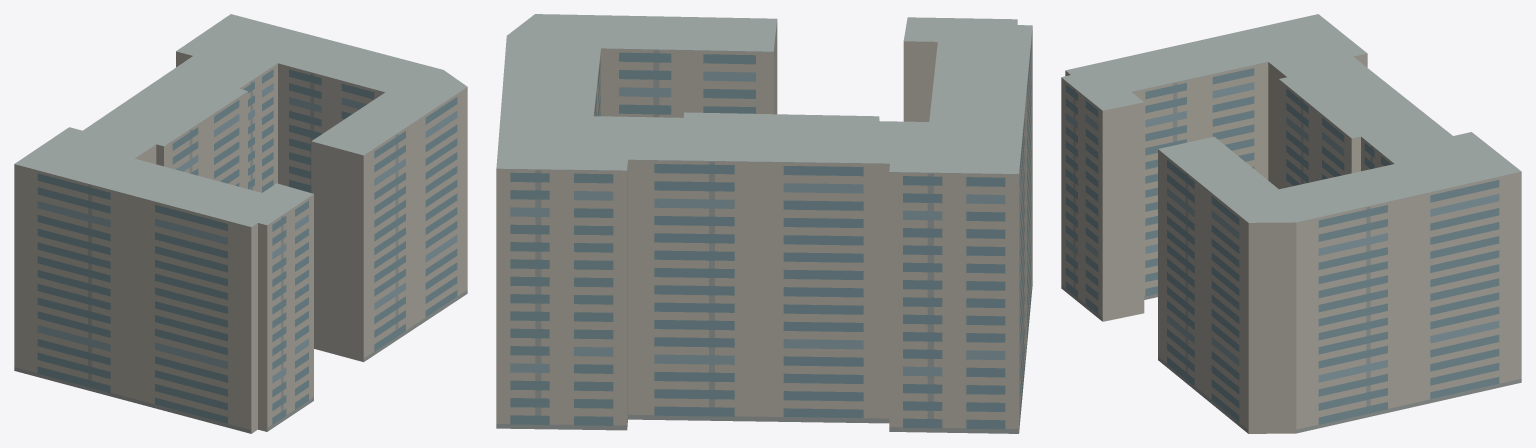
File: residential-4eac9d20-9733-48c5-90f8-e5d0ca094ec5.glb
3 renders of one model, left to right at view 1: azimuth 30°, elevation 25°; view 2: azimuth 150°, elevation 25°; view 3: azimuth 270°, elevation 25°, orthographic. The views are drawn at different scales.
Visible parts, largest first — view 1: residential-4eac9d20-9733-48c5-90f8-e5d0ca094ec5.tmp; view 2: residential-4eac9d20-9733-48c5-90f8-e5d0ca094ec5.tmp; view 3: residential-4eac9d20-9733-48c5-90f8-e5d0ca094ec5.tmp.
Part boxes in pixels (<box>): residential-4eac9d20-9733-48c5-90f8-e5d0ca094ec5.tmp: <box>14,14,467,433</box>; residential-4eac9d20-9733-48c5-90f8-e5d0ca094ec5.tmp: <box>496,14,1032,433</box>; residential-4eac9d20-9733-48c5-90f8-e5d0ca094ec5.tmp: <box>1061,14,1521,433</box>.
Bounding box in the file's own units: 121 × 57 × 113.
